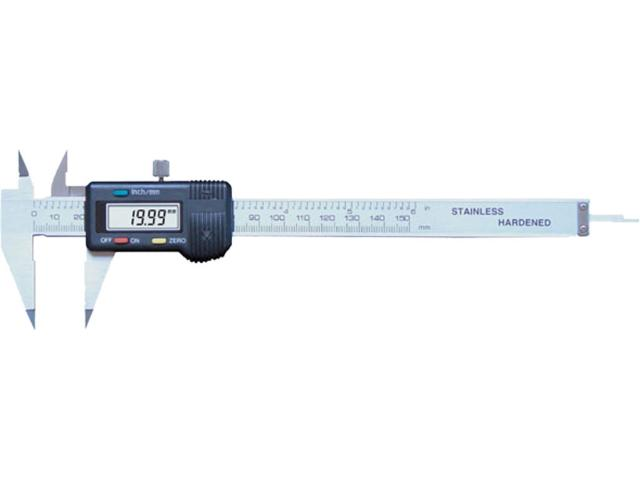Calipers: (1, 157, 622, 323)
